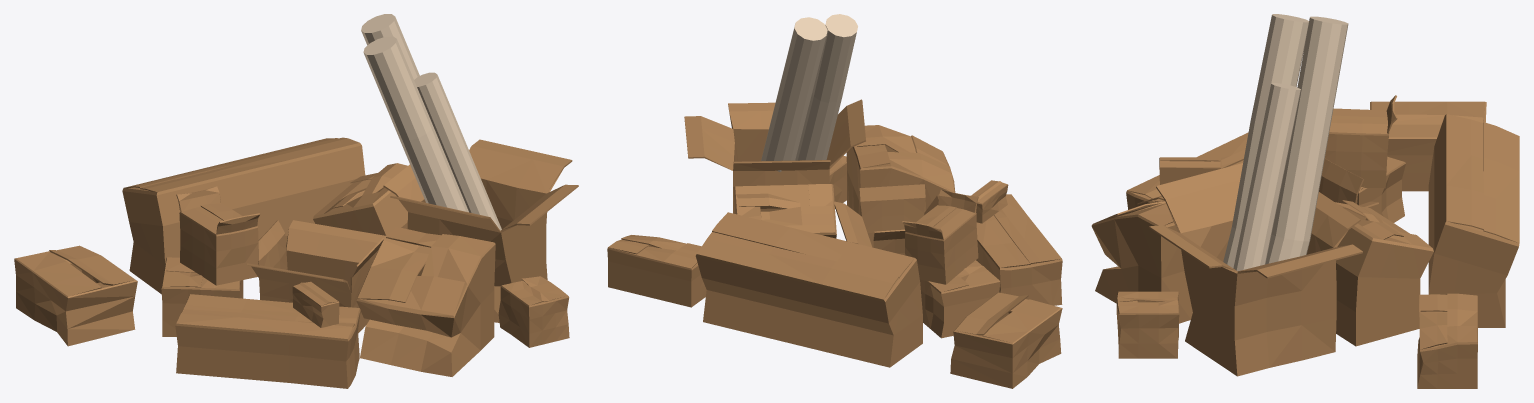
File: Cardboard_Boxes.fbx
The picture shows the model from 3 angles, left to right: view 1: azimuth 30°, elevation 25°; view 2: azimuth 150°, elevation 25°; view 3: azimuth 270°, elevation 25°; orthographic projection. The views are drawn at different scales.
Parts seen in each view (by area): view 1: Cardboard.012_low_Cylinder.032, Cardboard.013_low_Cylinder.033, Cardboard.009_low_Cylinder.029, Cardboard.017_low_Cylinder.037, Cardboard.008_low_Cylinder.028, Cardboard.015_low_Cylinder.035, Cardboard.002_low_Cylinder.022, Cardboard.016_low_Cylinder.036, Cardboard.005_low_Cylinder.025, Cardboard.011_low_Cylinder.031, Cardboard.003_low_Cylinder.023, Cardboard.010_low_Cylinder.030 (+2 smaller); view 2: Cardboard.013_low_Cylinder.033, Cardboard.017_low_Cylinder.037, Cardboard.008_low_Cylinder.028, Cardboard.009_low_Cylinder.029, Cardboard.012_low_Cylinder.032, Cardboard.001_low_Cylinder.021, Cardboard.016_low_Cylinder.036, Cardboard_low_Cylinder.013, Cardboard.002_low_Cylinder.022, Cardboard.015_low_Cylinder.035, Cardboard.011_low_Cylinder.031, Cardboard.010_low_Cylinder.030 (+2 smaller); view 3: Cardboard.017_low_Cylinder.037, Cardboard.013_low_Cylinder.033, Cardboard.011_low_Cylinder.031, Cardboard_low_Cylinder.013, Cardboard.012_low_Cylinder.032, Cardboard.003_low_Cylinder.023, Cardboard.001_low_Cylinder.021, Cardboard.002_low_Cylinder.022, Cardboard.008_low_Cylinder.028, Cardboard.016_low_Cylinder.036, Cardboard.005_low_Cylinder.025, Cardboard.010_low_Cylinder.030 (+3 smaller).
Boxes of the visible parts, x1=… form: Cardboard.012_low_Cylinder.032: x1=356, y1=226, x2=495, y2=376; Cardboard.013_low_Cylinder.033: x1=122, y1=137, x2=365, y2=293; Cardboard.009_low_Cylinder.029: x1=175, y1=294, x2=360, y2=388; Cardboard.017_low_Cylinder.037: x1=383, y1=139, x2=578, y2=322; Cardboard.008_low_Cylinder.028: x1=14, y1=245, x2=137, y2=346; Cardboard.015_low_Cylinder.035: x1=247, y1=220, x2=386, y2=332; Cardboard.002_low_Cylinder.022: x1=363, y1=36, x2=468, y2=212; Cardboard.016_low_Cylinder.036: x1=176, y1=186, x2=260, y2=285; Cardboard.005_low_Cylinder.025: x1=498, y1=276, x2=569, y2=347; Cardboard.011_low_Cylinder.031: x1=313, y1=163, x2=407, y2=235; Cardboard.003_low_Cylinder.023: x1=414, y1=72, x2=501, y2=230; Cardboard.010_low_Cylinder.030: x1=161, y1=257, x2=243, y2=336; Cardboard.013_low_Cylinder.033: x1=695, y1=212, x2=922, y2=367; Cardboard.017_low_Cylinder.037: x1=684, y1=99, x2=865, y2=213; Cardboard.008_low_Cylinder.028: x1=950, y1=292, x2=1062, y2=388; Cardboard.009_low_Cylinder.029: x1=976, y1=194, x2=1062, y2=305; Cardboard.012_low_Cylinder.032: x1=846, y1=125, x2=955, y2=214; Cardboard.001_low_Cylinder.021: x1=607, y1=235, x2=706, y2=307; Cardboard.016_low_Cylinder.036: x1=902, y1=189, x2=978, y2=284; Cardboard_low_Cylinder.013: x1=761, y1=17, x2=827, y2=171; Cardboard.002_low_Cylinder.022: x1=795, y1=14, x2=857, y2=160; Cardboard.015_low_Cylinder.035: x1=834, y1=184, x2=947, y2=255; Cardboard.011_low_Cylinder.031: x1=733, y1=184, x2=836, y2=238; Cardboard.010_low_Cylinder.030: x1=920, y1=260, x2=1000, y2=338; Cardboard.017_low_Cylinder.037: x1=1148, y1=163, x2=1362, y2=376; Cardboard.013_low_Cylinder.033: x1=1428, y1=114, x2=1519, y2=327; Cardboard.011_low_Cylinder.031: x1=1335, y1=200, x2=1433, y2=346; Cardboard_low_Cylinder.013: x1=1265, y1=16, x2=1348, y2=264; Cardboard.012_low_Cylinder.032: x1=1091, y1=196, x2=1192, y2=323; Cardboard.003_low_Cylinder.023: x1=1233, y1=83, x2=1300, y2=271; Cardboard.001_low_Cylinder.021: x1=1417, y1=293, x2=1477, y2=388; Cardboard.002_low_Cylinder.022: x1=1223, y1=14, x2=1308, y2=267; Cardboard.008_low_Cylinder.028: x1=1370, y1=101, x2=1486, y2=191; Cardboard.016_low_Cylinder.036: x1=1325, y1=95, x2=1397, y2=188; Cardboard.005_low_Cylinder.025: x1=1116, y1=291, x2=1179, y2=358; Cardboard.010_low_Cylinder.030: x1=1357, y1=156, x2=1405, y2=222.
Bounding box in the file's own units: 312 × 178 × 234.
